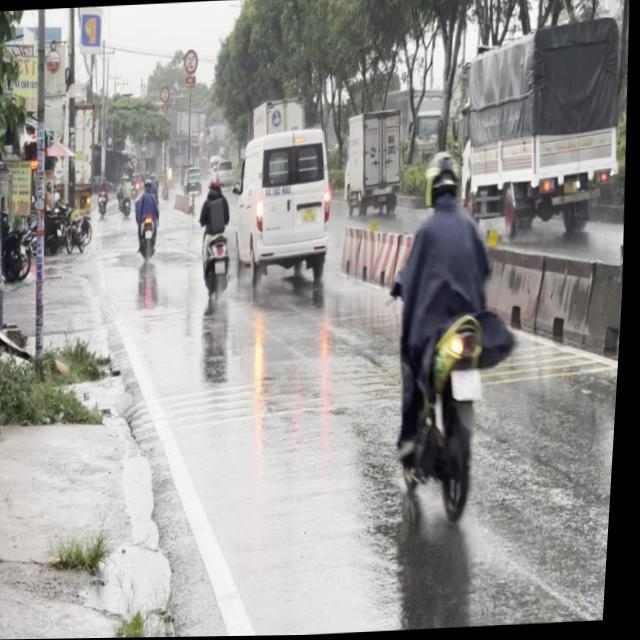helmet: (429, 150, 467, 206)
licenseplate: (379, 144, 536, 542)
nohelmet: (455, 369, 489, 400)
